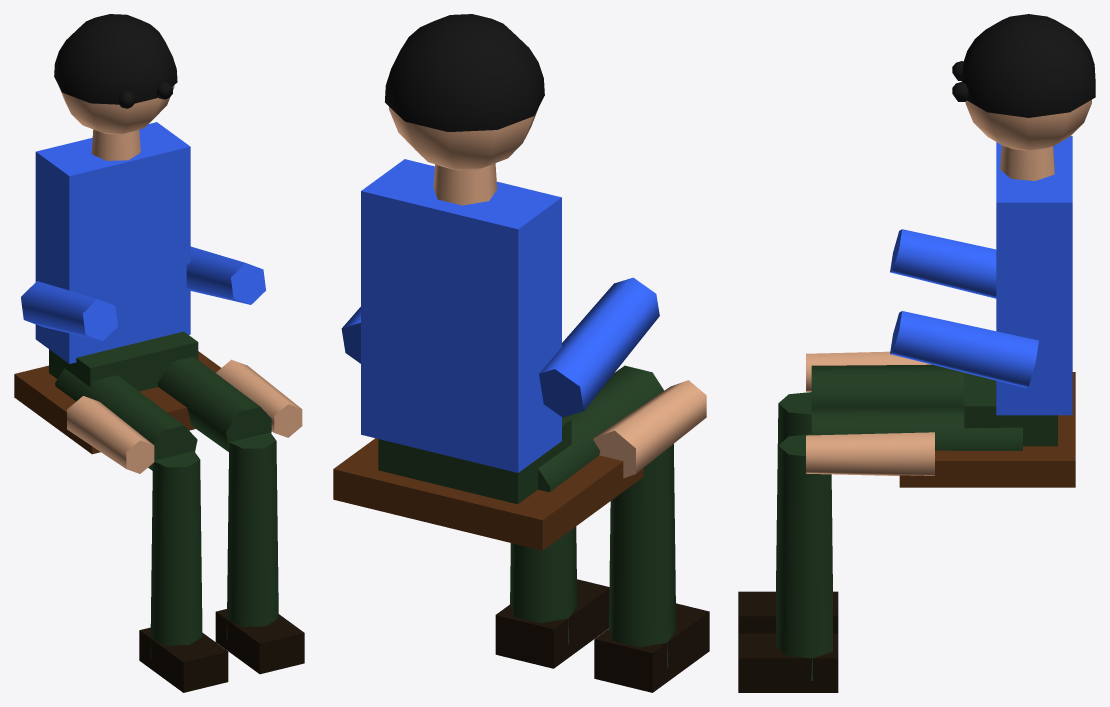
File: crowd-seated-19.glb
The picture shows the model from 3 angles, left to right: view 1: azimuth 30°, elevation 25°; view 2: azimuth 150°, elevation 25°; view 3: azimuth 270°, elevation 25°; orthographic projection. The views are drawn at different scales.
Parts seen in each view (by area): view 1: Torso, Left Shin, Right Shin, Hair Cap, Right Thigh, Left Thigh, Hips, Left Upper Arm, Left Shoe, Right Shoe, Left Lower Arm, Bench Seat (+4 smaller); view 2: Torso, Hair Cap, Bench Seat, Left Shin, Left Upper Arm, Hips, Left Shoe, Right Shoe, Left Lower Arm, Right Shin, Left Thigh, Head (+2 smaller); view 3: Torso, Right Shin, Hair Cap, Right Upper Arm, Bench Seat, Left Thigh, Right Thigh, Right Lower Arm, Left Upper Arm, Right Shoe, Head, Hips (+4 smaller).
Part boxes in pixels (<box>): Torso: <box>35,122,190,363</box>; Left Shin: <box>150,451,202,658</box>; Right Shin: <box>226,432,278,639</box>; Hair Cap: <box>54,14,177,104</box>; Right Thigh: <box>157,356,271,451</box>; Left Thigh: <box>55,368,197,470</box>; Hips: <box>49,331,198,391</box>; Left Upper Arm: <box>21,281,117,340</box>; Left Shoe: <box>139,627,228,692</box>; Right Shoe: <box>215,609,304,674</box>; Left Lower Arm: <box>67,396,154,473</box>; Bench Seat: <box>14,351,220,454</box>; Torso: <box>361,159,561,472</box>; Hair Cap: <box>385,14,544,131</box>; Bench Seat: <box>333,438,643,550</box>; Left Shin: <box>609,444,676,668</box>; Left Upper Arm: <box>539,277,659,417</box>; Hips: <box>378,417,571,504</box>; Left Shoe: <box>594,603,709,692</box>; Right Shoe: <box>495,579,609,668</box>; Left Lower Arm: <box>593,380,706,478</box>; Right Shin: <box>510,526,577,644</box>; Left Thigh: <box>538,365,663,492</box>; Head: <box>389,107,538,170</box>; Torso: <box>996,136,1072,415</box>; Right Shin: <box>775,434,832,681</box>; Hair Cap: <box>962,14,1095,117</box>; Right Upper Arm: <box>890,311,1038,387</box>; Bench Seat: <box>899,372,1075,487</box>; Left Thigh: <box>811,364,964,407</box>; Right Thigh: <box>811,406,1022,450</box>; Right Lower Arm: <box>806,432,934,475</box>; Left Upper Arm: <box>890,229,996,298</box>; Right Shoe: <box>738,633,838,692</box>; Head: <box>965,99,1091,151</box>; Hips: <box>964,372,1057,446</box>.
Bounding box in the file's own units: 0.4097 × 1.2 × 0.6089.
